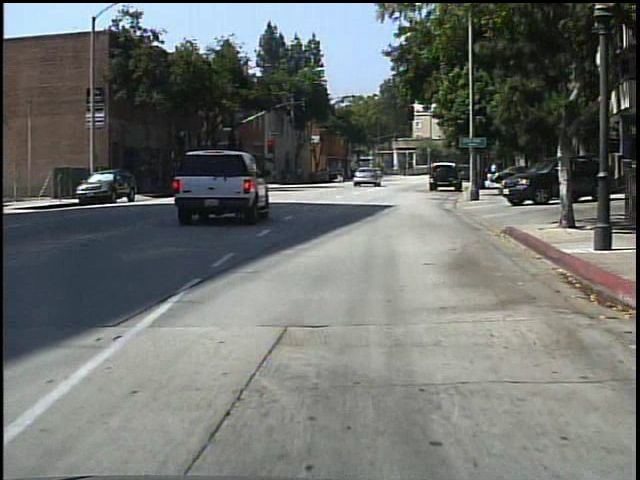person: (333, 166, 347, 186), (489, 160, 501, 179)
